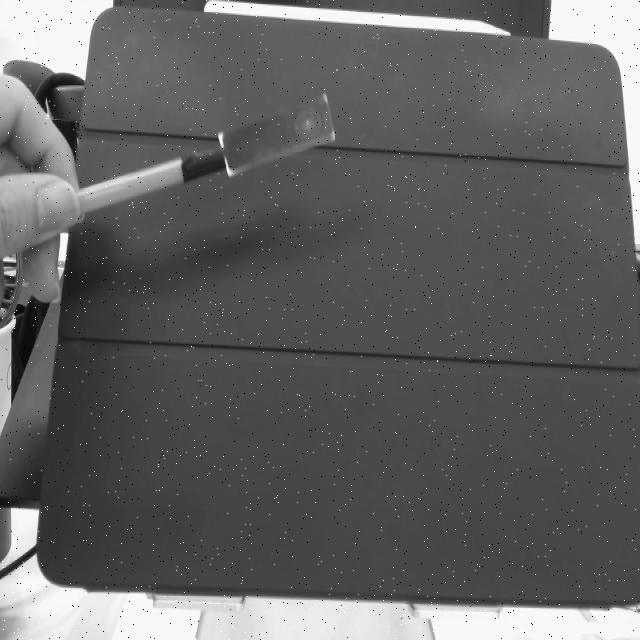traffic light: (217, 96, 363, 180)
